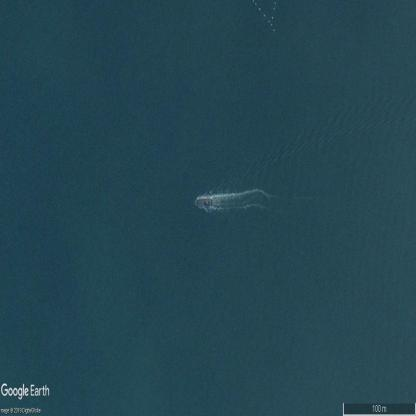ship: (195, 198, 211, 206)
